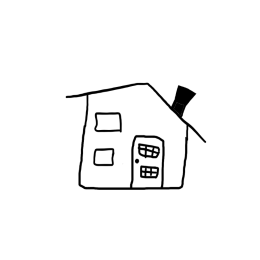chimney: (163, 73, 206, 122)
door: (122, 132, 172, 198)
open_window: (90, 109, 126, 138), (89, 144, 118, 169)
single_line_roof: (46, 70, 207, 147)
small_house: (1, 1, 260, 260)
wall: (75, 95, 192, 197)
